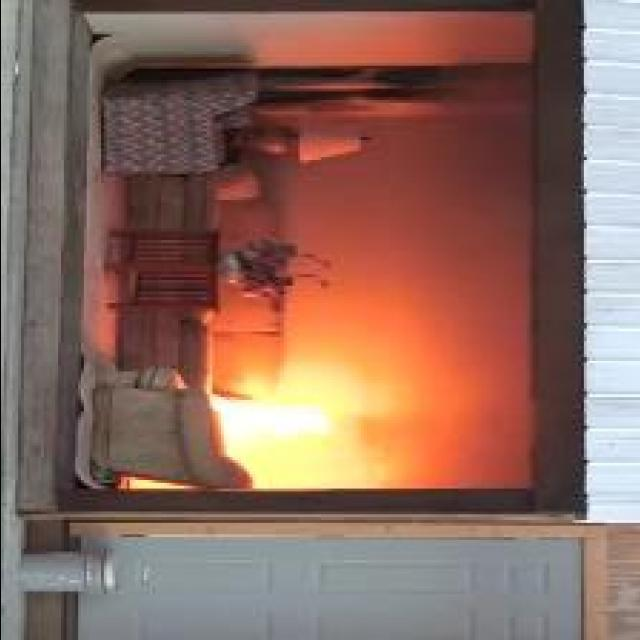Fire: (205, 400, 332, 446)
